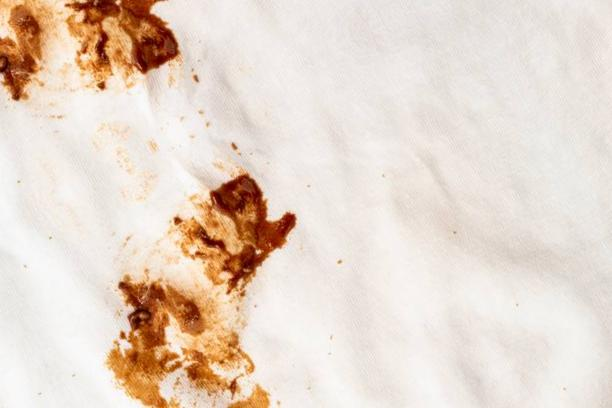stain: (105, 171, 294, 407), (0, 0, 185, 102)
